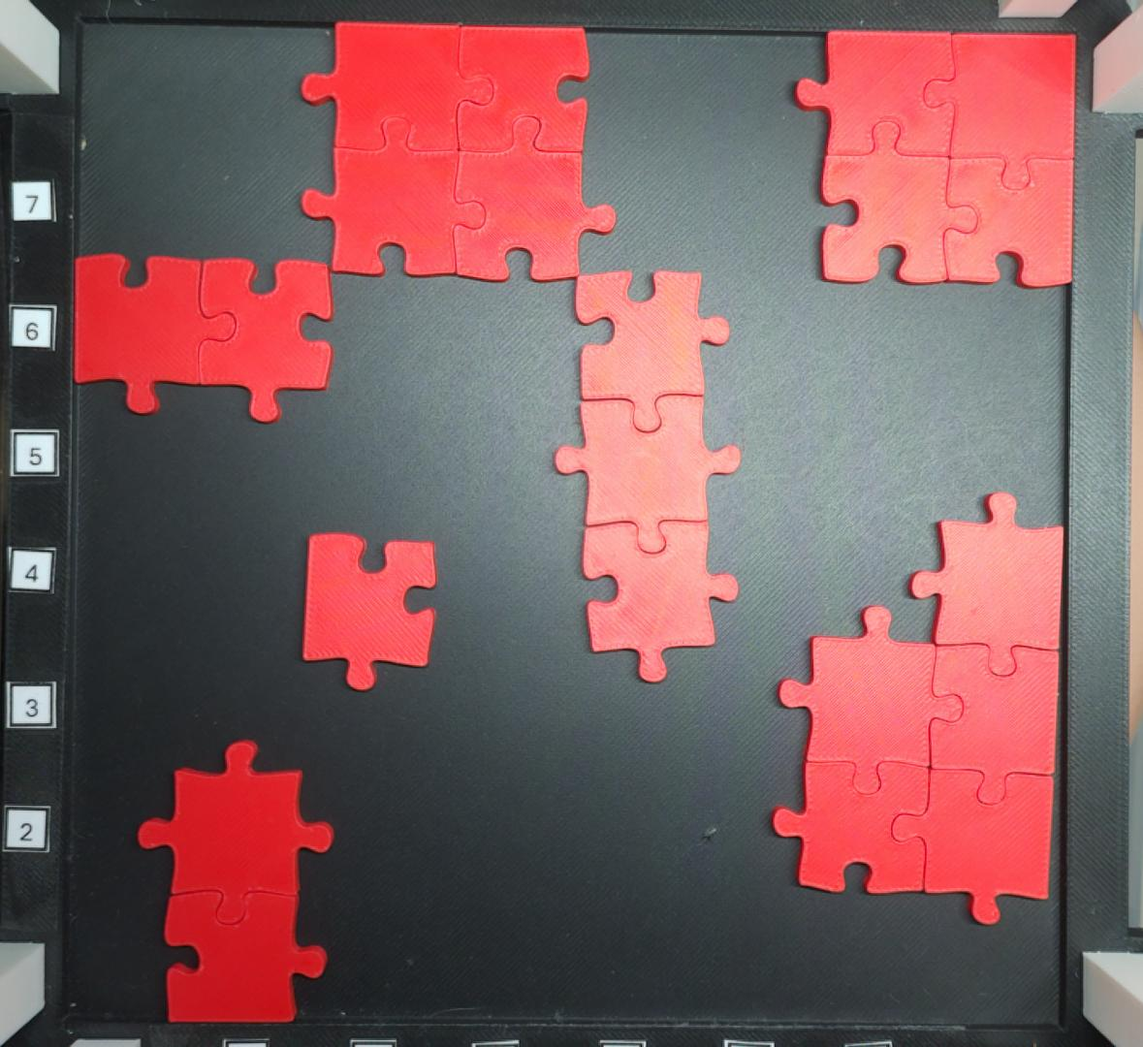p_1: (302, 533, 437, 689)
p_2: (137, 741, 333, 1027), (75, 251, 333, 424)
p_3: (556, 272, 740, 682)
p_4: (300, 21, 617, 285), (793, 31, 1075, 288)
p_m: (774, 492, 1064, 925)
